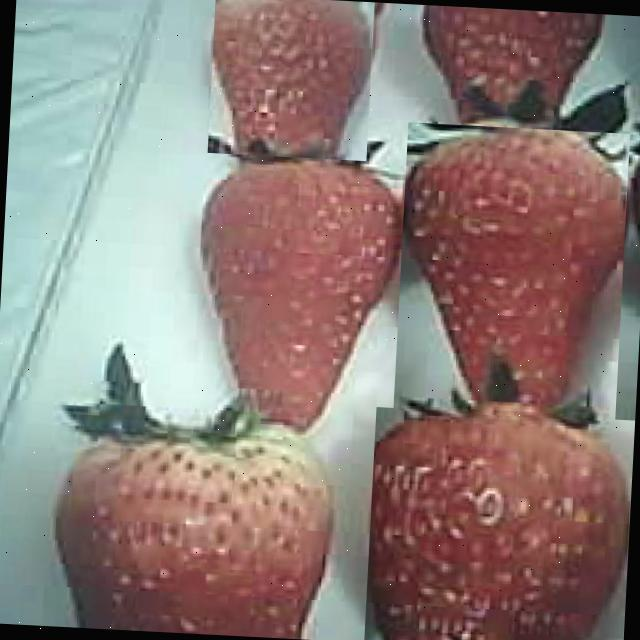ripe: (394, 122, 630, 422), (51, 408, 339, 640), (364, 407, 635, 640), (192, 146, 399, 430), (207, 0, 374, 161)
